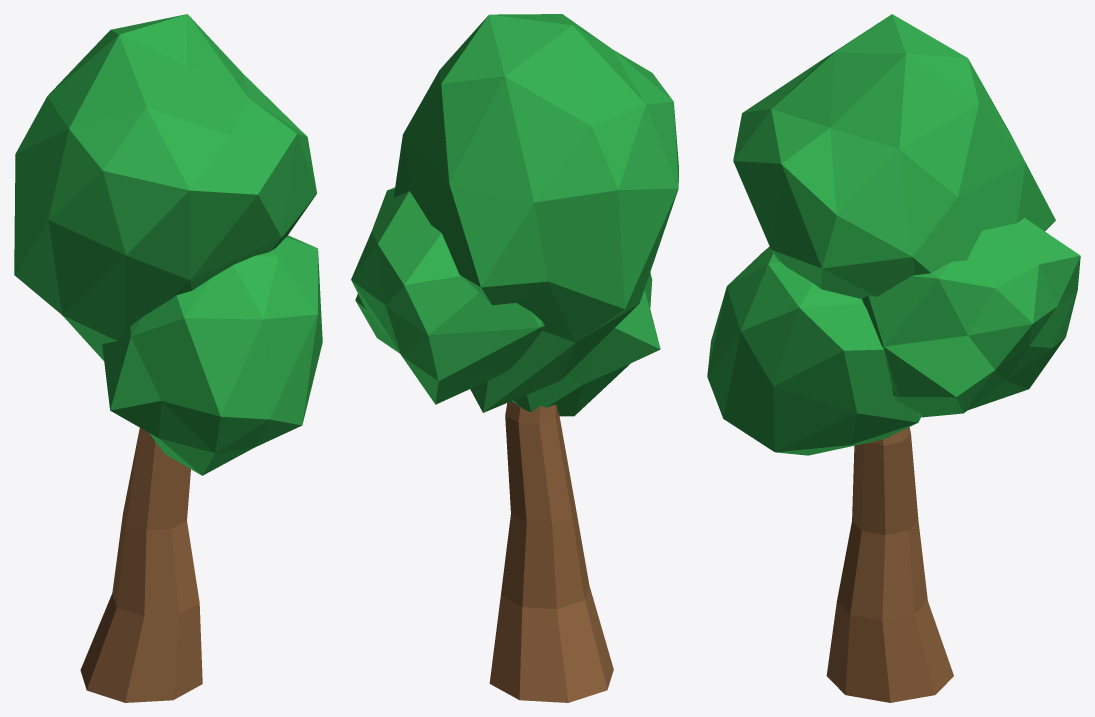
The model's file is дерево-2.fbx.
3 views of the same model, side by side, from view 1: azimuth 30°, elevation 25°; view 2: azimuth 150°, elevation 25°; view 3: azimuth 270°, elevation 25° (orthographic).
Visible parts, largest first — view 1: Дерево малое; view 2: Дерево малое; view 3: Дерево малое.
Part boxes in pixels (left/top/right/bottom): Дерево малое: left=14, top=14, right=322, bottom=702; Дерево малое: left=351, top=14, right=678, bottom=702; Дерево малое: left=707, top=14, right=1080, bottom=702.
Bounding box in the file's own units: 2.38 × 5.44 × 2.83.
